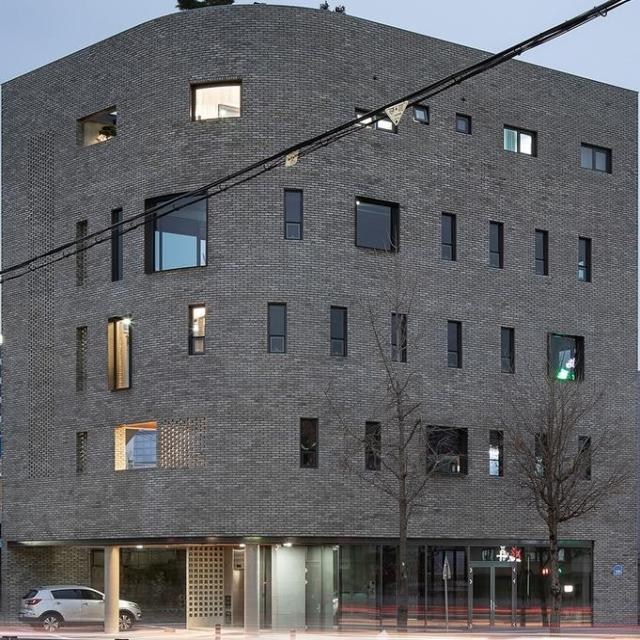door: (468, 559, 518, 634)
window: (305, 545, 595, 637), (90, 550, 189, 628), (155, 194, 207, 271), (355, 203, 394, 251), (430, 425, 465, 471), (196, 84, 242, 118), (126, 428, 158, 470), (112, 320, 131, 389), (82, 112, 117, 147), (553, 335, 579, 381), (301, 418, 321, 466), (580, 145, 611, 174), (505, 128, 536, 155), (269, 302, 285, 353), (284, 189, 300, 239), (359, 112, 395, 132), (365, 421, 380, 469), (332, 307, 346, 357), (191, 306, 204, 354), (442, 214, 454, 260), (394, 315, 406, 360), (501, 329, 513, 373), (447, 319, 458, 367), (490, 222, 501, 267), (536, 233, 548, 274), (489, 432, 500, 474), (579, 239, 589, 280), (117, 210, 121, 280), (412, 107, 428, 124), (456, 117, 468, 133)
